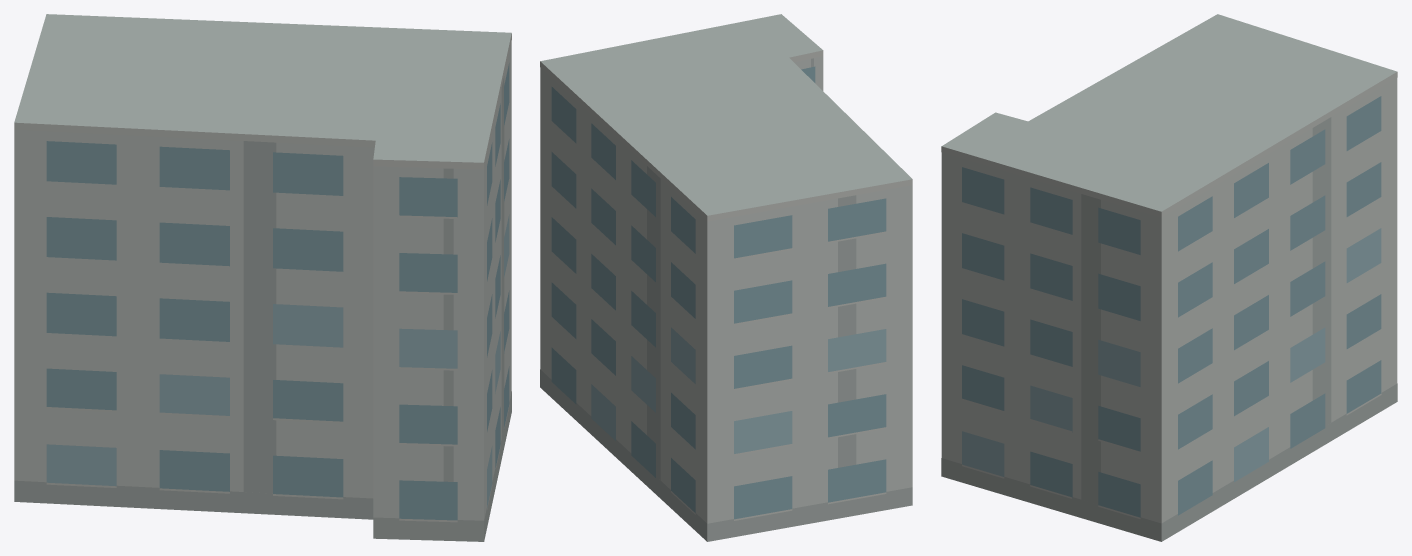
Rendered from survey-upis-32808112.glb.
3 renders of one model, left to right at view 1: azimuth 30°, elevation 25°; view 2: azimuth 150°, elevation 25°; view 3: azimuth 270°, elevation 25°, orthographic. The views are drawn at different scales.
Visible parts, largest first — view 1: survey-upis-32808112.tmp; view 2: survey-upis-32808112.tmp; view 3: survey-upis-32808112.tmp.
Part boxes in pixels (x1,y1,x2,y2): survey-upis-32808112.tmp: (14,14,511,541); survey-upis-32808112.tmp: (540,14,912,541); survey-upis-32808112.tmp: (941,14,1397,541).
Size of the model in its own units: 17.22 by 13.4 by 16.78.
